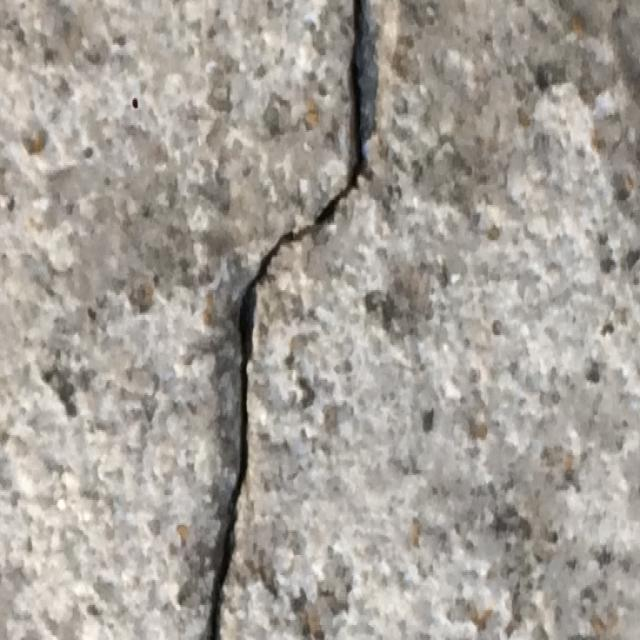Longitudinal: (199, 0, 383, 640)
